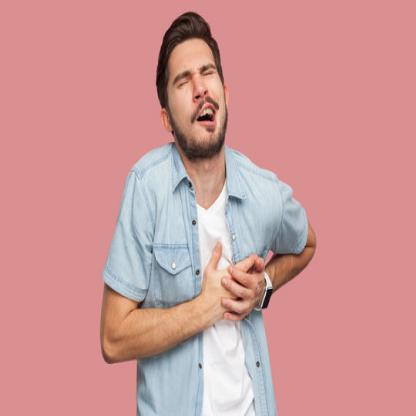pain: (169, 63, 225, 92)
